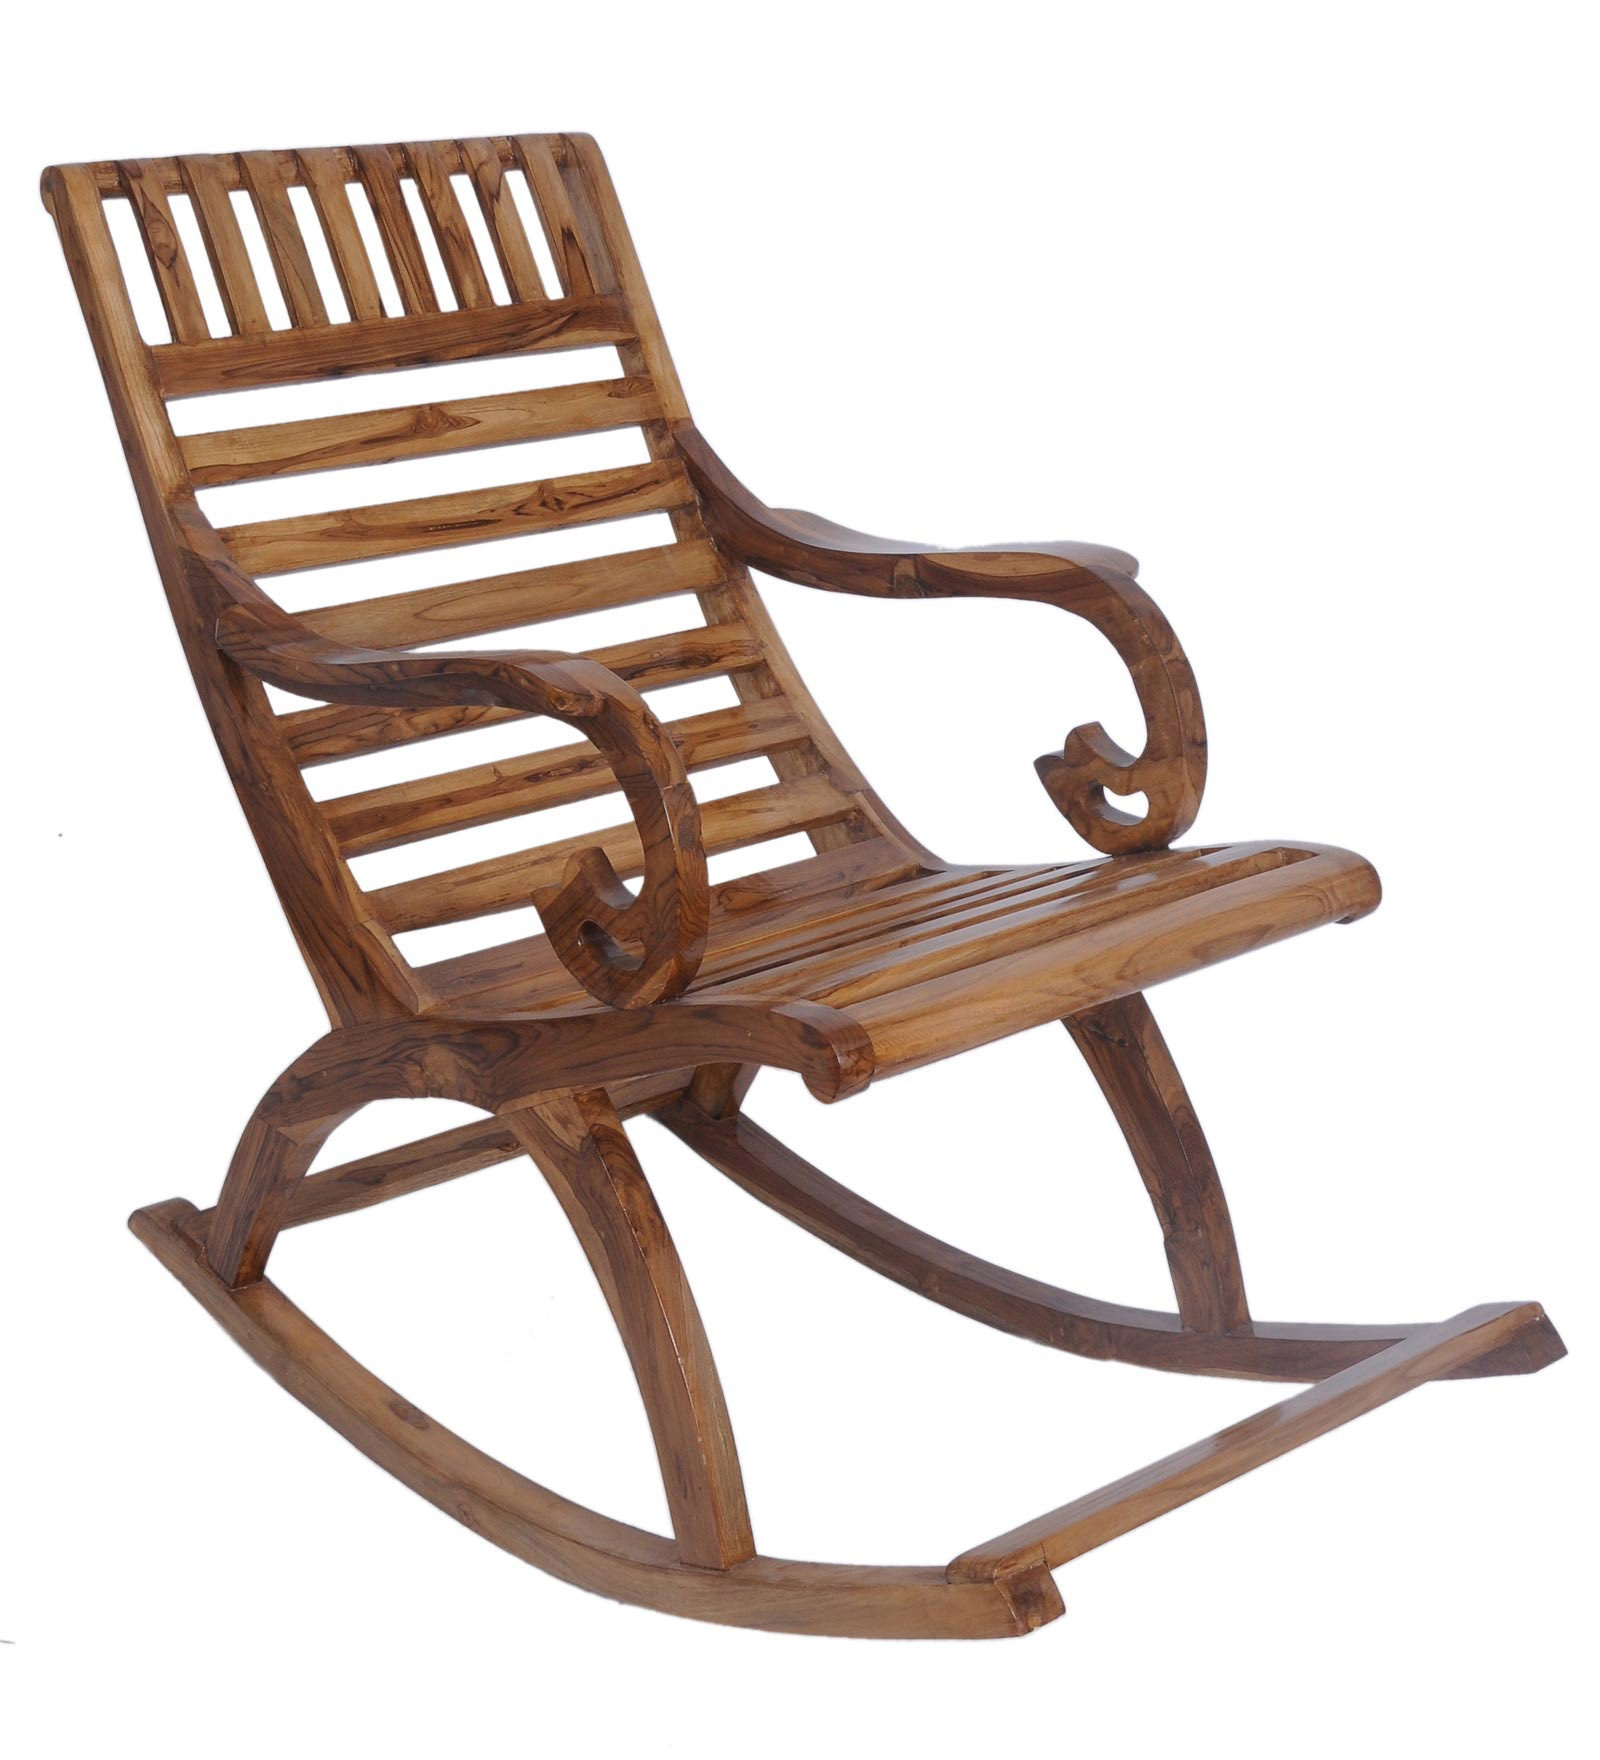Teak Wood Rocking Chair in Light Teak Finish by Karigar: (15, 117, 1598, 1666)
